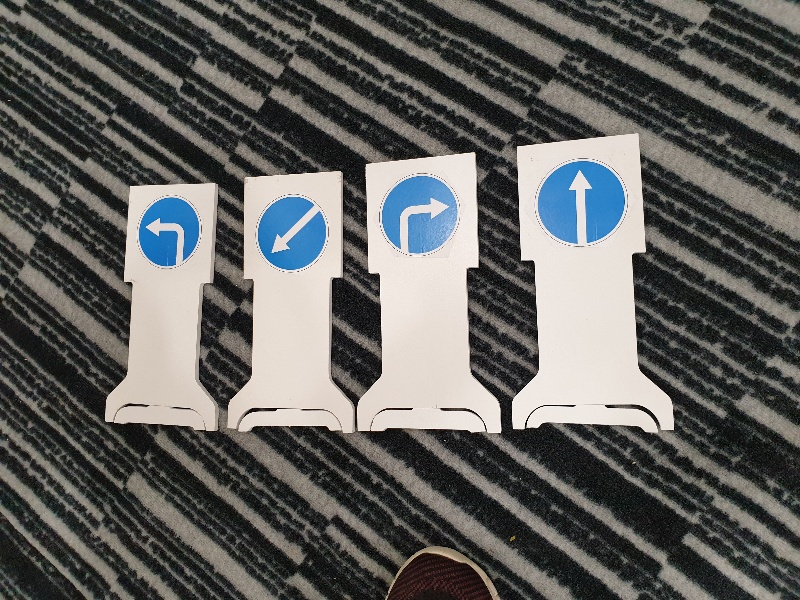Left: (134, 191, 207, 272)
Right: (374, 166, 465, 258)
forw: (530, 152, 632, 251)
prep: (253, 191, 332, 275)
